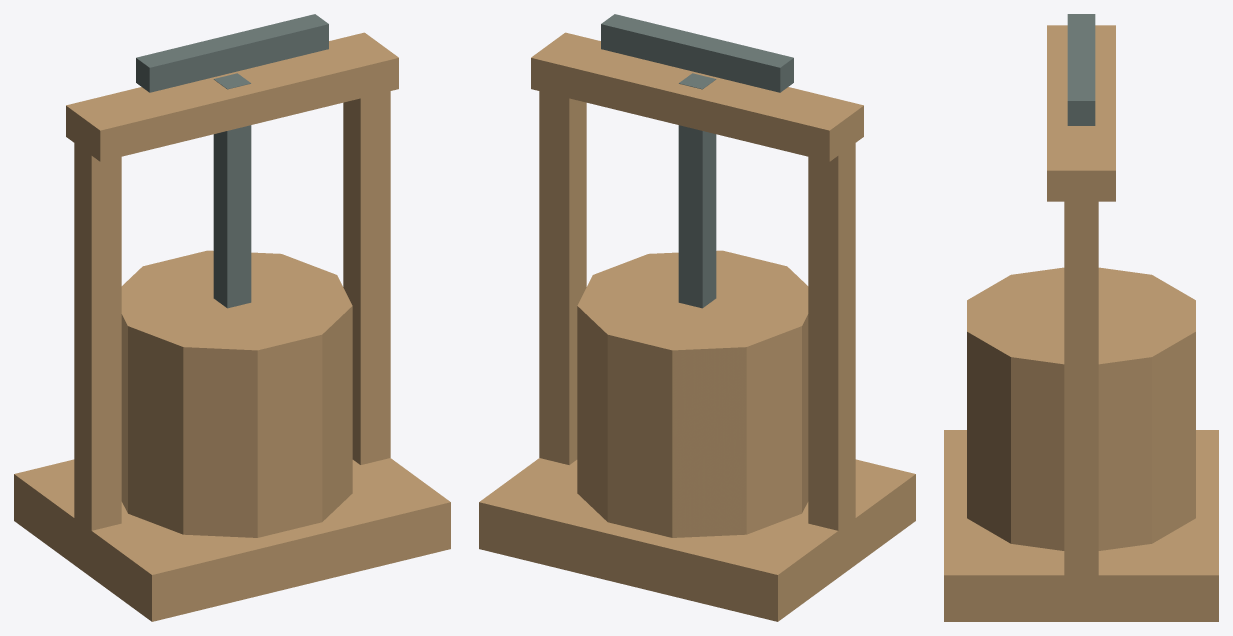
The model's file is cozy-farm-and-homestead-apple-press-3e06518e__19412.glb.
3 renders of one model, left to right at view 1: azimuth 30°, elevation 25°; view 2: azimuth 150°, elevation 25°; view 3: azimuth 270°, elevation 25°, orthographic.
Visible parts, largest first — view 1: apple-press; view 2: apple-press; view 3: apple-press.
Part boxes in pixels (x1,y1,x2,y2): apple-press: [14, 14, 450, 621]; apple-press: [479, 14, 915, 621]; apple-press: [944, 14, 1218, 621].
Bounding box in the file's own units: 1 × 1.58 × 0.8.
